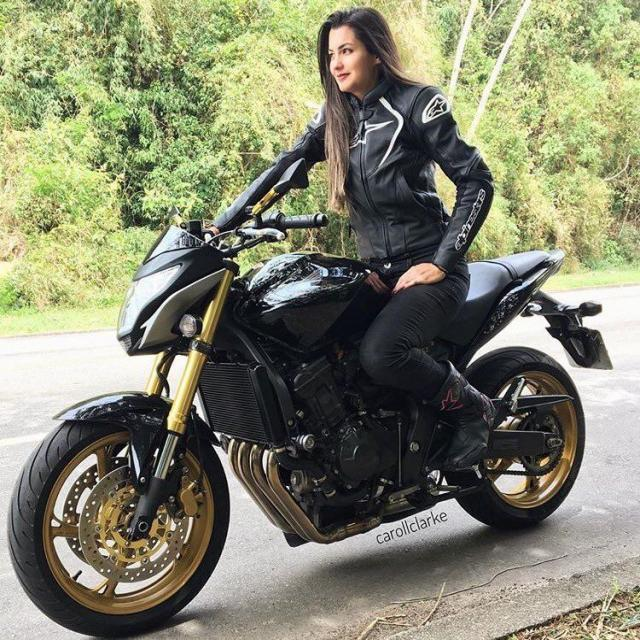Not Wearing Helmet: (240, 0, 456, 207)
